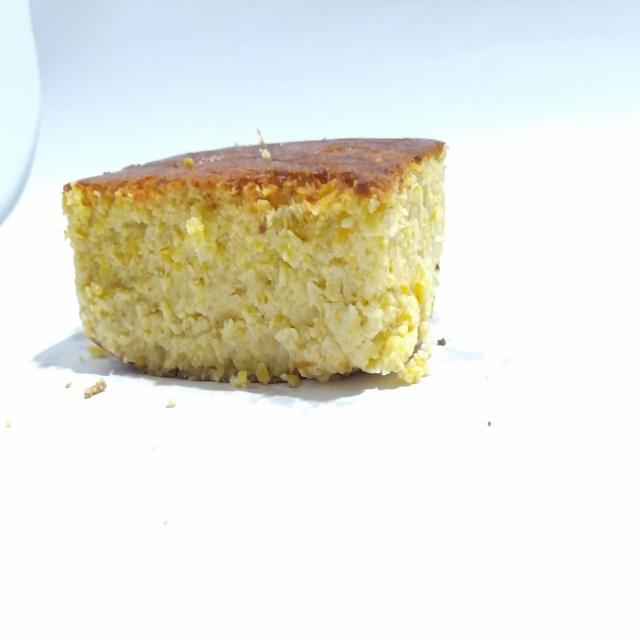Food: (56, 126, 453, 403)
